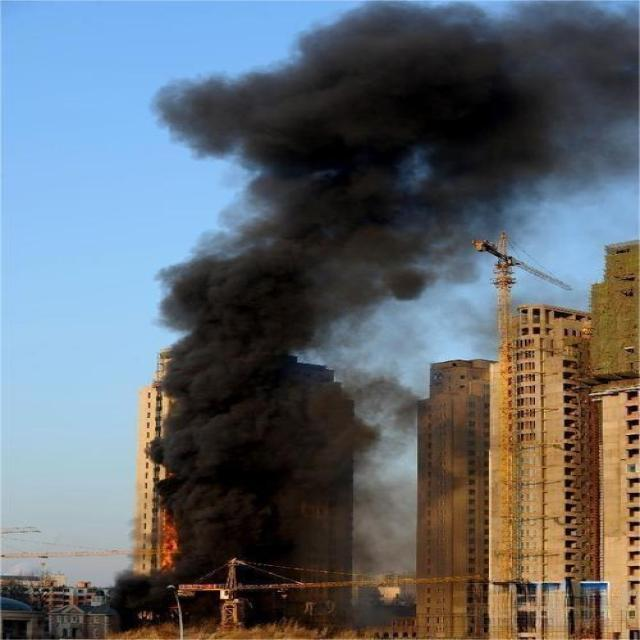Smoke: (142, 1, 554, 574)
